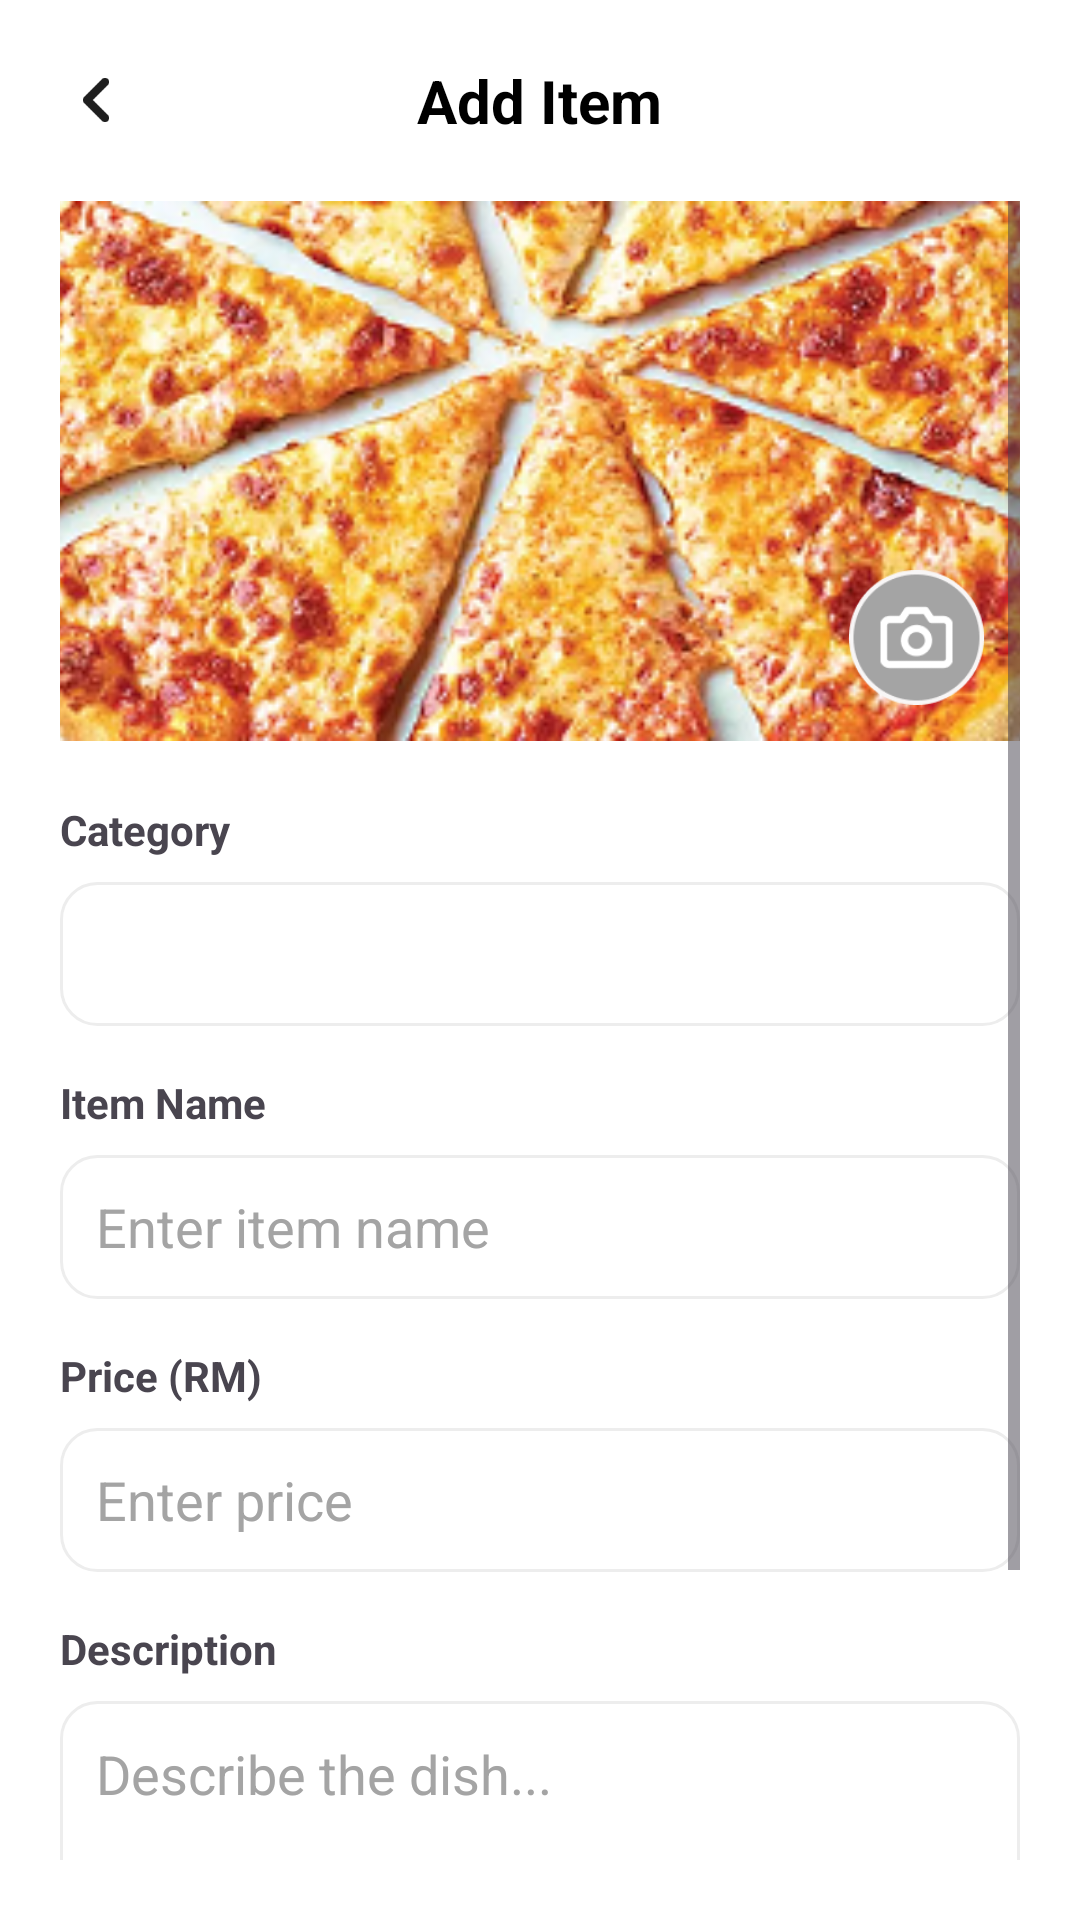

Named icons in this screenshot (1080px×1920px) and their centers, [x,y]:
back: [96,100]
